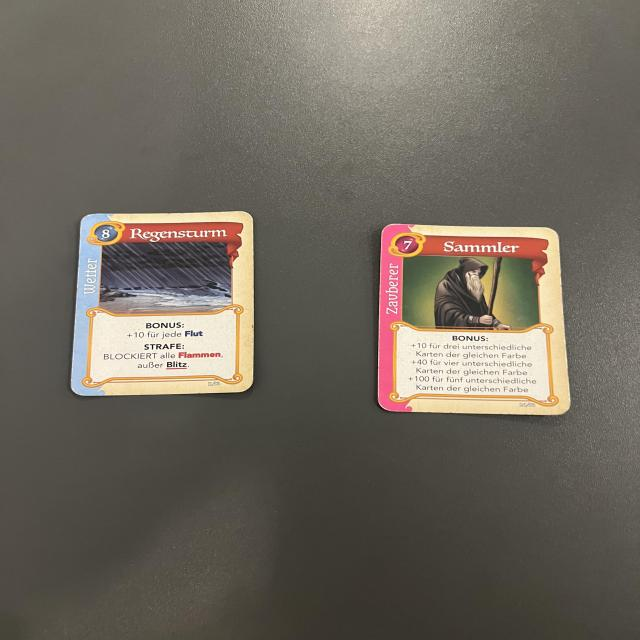Collector: (372, 220, 572, 419)
Rainstorm: (65, 209, 251, 399)
